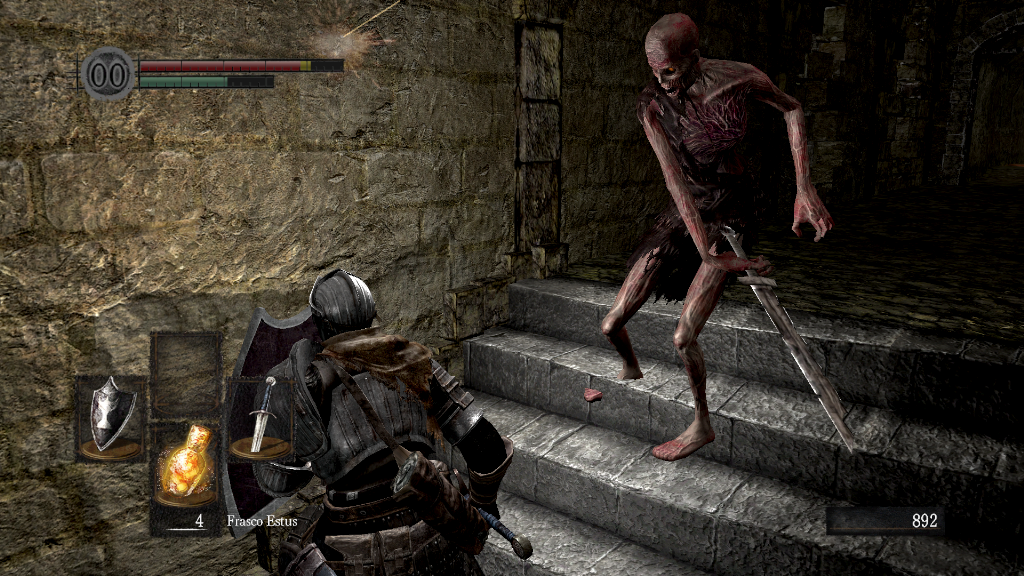health: (138, 58, 343, 71)
hollow: (583, 12, 834, 461)
humanity: (80, 45, 136, 102)
player: (216, 267, 535, 576)
souls: (825, 506, 945, 536)
stamina: (138, 74, 274, 88)
